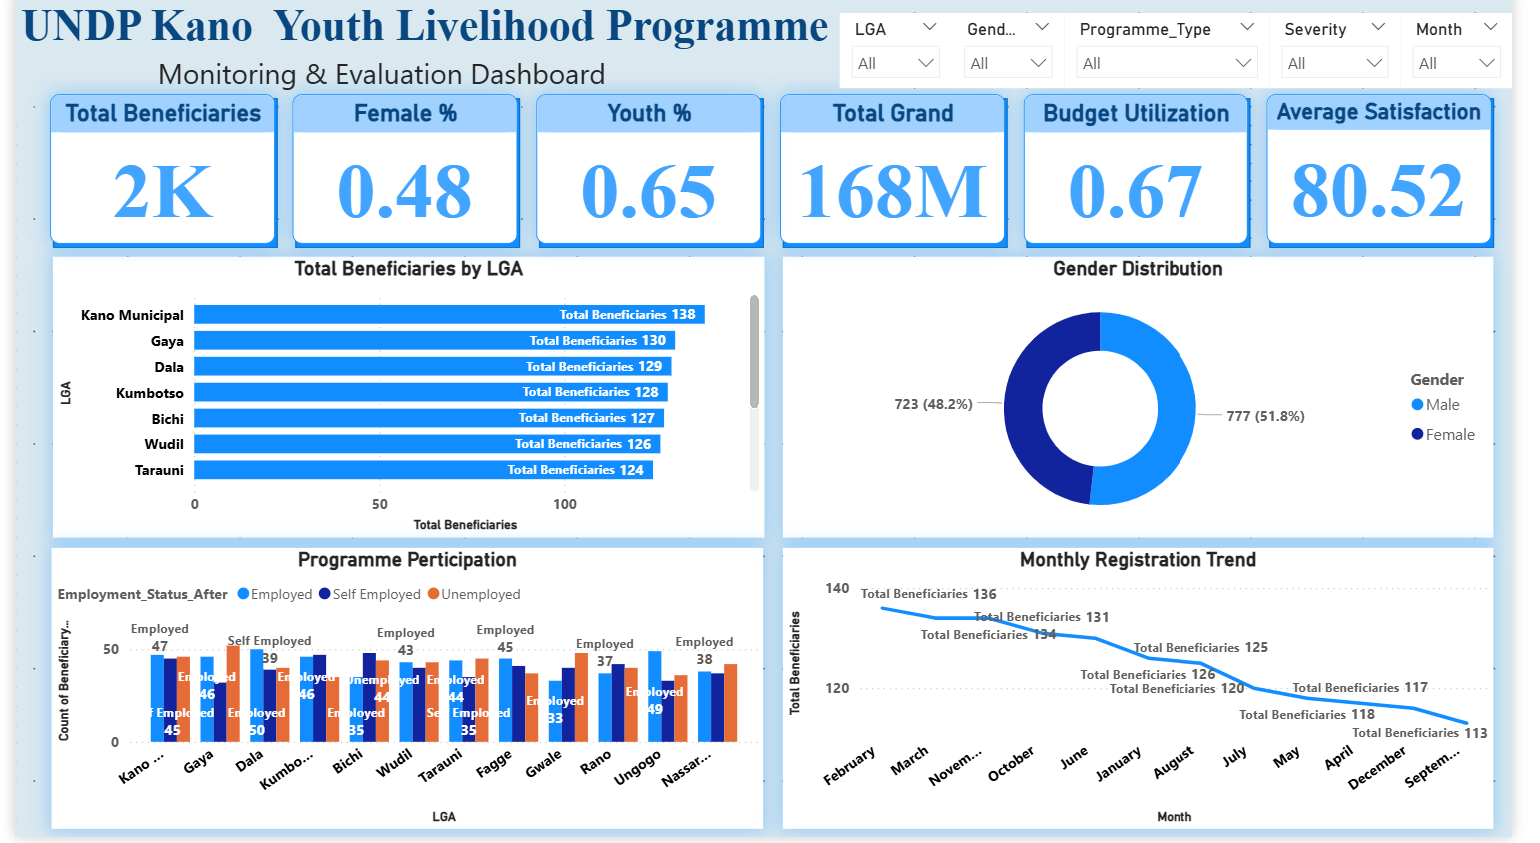

The dashboard page shown, as its layout file describes it:
{"tool":"powerbi","page":{"name":"Executive Overview","canvas":[1280,720],"ordinal":0},"visuals":[{"type":"textbox","box":[0,0,704,96],"z":0},{"type":"clusteredBarChart","fields":{"Category":["Beneficiaries.LGA"],"Y":["Beneficiaries.Total Beneficiaries"]},"box":[32,224,608,240],"z":1000},{"type":"shape","box":[239.5,89.8,192,128],"z":1250,"group":"g5"},{"type":"shape","box":[31.5,89.8,192,128],"z":1500,"group":"g6"},{"type":"card","title":"Total Beneficiaries","fields":{"Values":["Beneficiaries.Total Beneficiaries"]},"box":[29.6,85.9,192,128],"z":2000,"group":"g6"},{"type":"donutChart","title":"Gender Distribution","fields":{"Category":["Beneficiaries.Gender"],"Y":["CountNonNull(Beneficiaries.Beneficiary_ID)"]},"box":[656,224,608,240],"z":2000},{"type":"card","title":"Female %","fields":{"Values":["Beneficiaries.Female %"]},"box":[237.6,85.9,192,128],"z":3000,"group":"g5"},{"type":"clusteredColumnChart","title":"Programme Perticipation","fields":{"Y":["CountNonNull(Beneficiaries.Beneficiary_ID)"],"Series":["Beneficiaries.Employment_Status_After"],"Category":["Beneficiaries.LGA"]},"box":[31.4,472.8,608,240],"z":3000},{"type":"shape","box":[447.5,89.8,192,128],"z":3500,"group":"g4"},{"type":"shape","box":[655.5,89.8,192,128],"z":3750,"group":"g3"},{"type":"shape","box":[863.5,89.8,192,128],"z":3875,"group":"g2"},{"type":"shape","box":[1071.5,89.8,192,128],"z":3937,"group":"g1"},{"type":"card","title":"Youth %","fields":{"Values":["Beneficiaries.Youth %"]},"box":[445.6,85.9,192,128],"z":4000,"group":"g4"},{"type":"lineChart","title":"Monthly Registration Trend","fields":{"Y":["Beneficiaries.Total Beneficiaries"],"Category":["Beneficiaries.Month"]},"box":[655.4,472.8,608,240],"z":4000},{"type":"card","title":"Total Grand","fields":{"Values":["Beneficiaries.Total Grand"]},"box":[653.6,85.9,192,128],"z":5000,"group":"g3"},{"type":"group","id":"g1","title":"Group 1","box":[1069.6,85.9,193.9,131.9],"z":5000},{"type":"group","id":"g2","title":"Group 2","box":[861.6,85.9,193.9,131.9],"z":6000},{"type":"card","title":"Budget Utilization","fields":{"Values":["Beneficiaries.Budget Utilization %"]},"box":[861.6,85.9,192,128],"z":6000,"group":"g2"},{"type":"group","id":"g3","title":"Group 3","box":[653.6,85.9,193.9,131.9],"z":7000},{"type":"card","title":"Average Satisfaction","fields":{"Values":["Beneficiaries.Average Satisfaction"]},"box":[1069.6,85.9,192,128],"z":7000,"group":"g1"},{"type":"group","id":"g4","title":"Group 4","box":[445.6,85.9,193.9,131.9],"z":8000},{"type":"group","id":"g5","title":"Group 5","box":[237.6,85.9,193.9,131.9],"z":9000},{"type":"group","id":"g6","title":"Group 6","box":[29.6,85.9,193.9,131.9],"z":10000},{"type":"slicer","fields":{"Values":["Beneficiaries.LGA"]},"box":[704,16,96,64],"z":11000},{"type":"slicer","fields":{"Values":["Beneficiaries.Gender"]},"box":[800,16,96,64],"z":12000},{"type":"slicer","fields":{"Values":["Beneficiaries.Programme_Type"]},"box":[896,16,176,64],"z":13000},{"type":"slicer","fields":{"Values":["Risk_Register.Column3"]},"box":[1072,16,112,64],"z":14000},{"type":"slicer","fields":{"Values":["Beneficiaries.Month"]},"box":[1184,16,96,64],"z":15000}]}

Visuals, with their boxes in screenshot pixels (x1, y1, x2, y2), scaled from the page's 1280x720 canvas onto the 1540x843 screenshot:
textbox: (x1=0, y1=0, x2=847, y2=112)
clusteredBarChart - Beneficiaries.LGA x Beneficiaries.Total Beneficiaries: (x1=38, y1=262, x2=770, y2=543)
shape: (x1=288, y1=105, x2=519, y2=255)
shape: (x1=38, y1=105, x2=269, y2=255)
"Total Beneficiaries" card: (x1=36, y1=101, x2=267, y2=250)
"Gender Distribution" donutChart: (x1=789, y1=262, x2=1521, y2=543)
"Female %" card: (x1=286, y1=101, x2=517, y2=250)
"Programme Perticipation" clusteredColumnChart: (x1=38, y1=554, x2=769, y2=835)
shape: (x1=538, y1=105, x2=769, y2=255)
shape: (x1=789, y1=105, x2=1020, y2=255)
shape: (x1=1039, y1=105, x2=1270, y2=255)
shape: (x1=1289, y1=105, x2=1520, y2=255)
"Youth %" card: (x1=536, y1=101, x2=767, y2=250)
"Monthly Registration Trend" lineChart: (x1=789, y1=554, x2=1520, y2=835)
"Total Grand" card: (x1=786, y1=101, x2=1017, y2=250)
"Group 1" group: (x1=1287, y1=101, x2=1520, y2=255)
"Group 2" group: (x1=1037, y1=101, x2=1270, y2=255)
"Budget Utilization" card: (x1=1037, y1=101, x2=1268, y2=250)
"Group 3" group: (x1=786, y1=101, x2=1020, y2=255)
"Average Satisfaction" card: (x1=1287, y1=101, x2=1518, y2=250)
"Group 4" group: (x1=536, y1=101, x2=769, y2=255)
"Group 5" group: (x1=286, y1=101, x2=519, y2=255)
"Group 6" group: (x1=36, y1=101, x2=269, y2=255)
slicer - Beneficiaries.LGA: (x1=847, y1=19, x2=962, y2=94)
slicer - Beneficiaries.Gender: (x1=962, y1=19, x2=1078, y2=94)
slicer - Beneficiaries.Programme_Type: (x1=1078, y1=19, x2=1290, y2=94)
slicer - Risk_Register.Column3: (x1=1290, y1=19, x2=1424, y2=94)
slicer - Beneficiaries.Month: (x1=1424, y1=19, x2=1539, y2=94)
